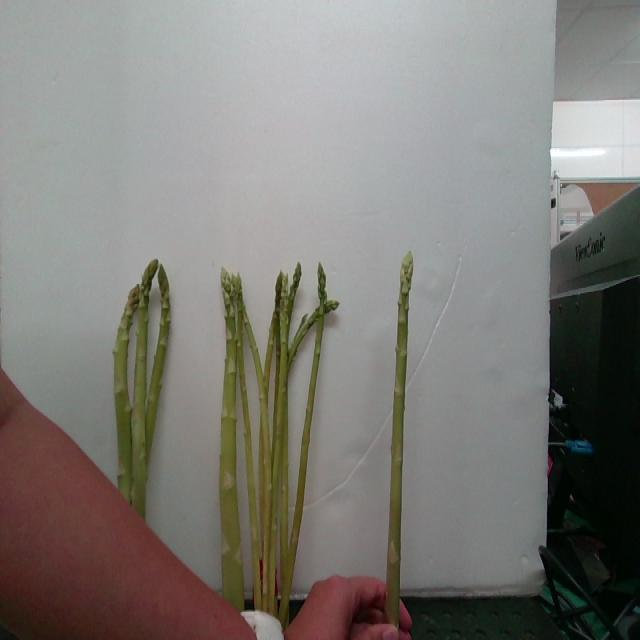aspargus: (386, 253, 416, 629)
